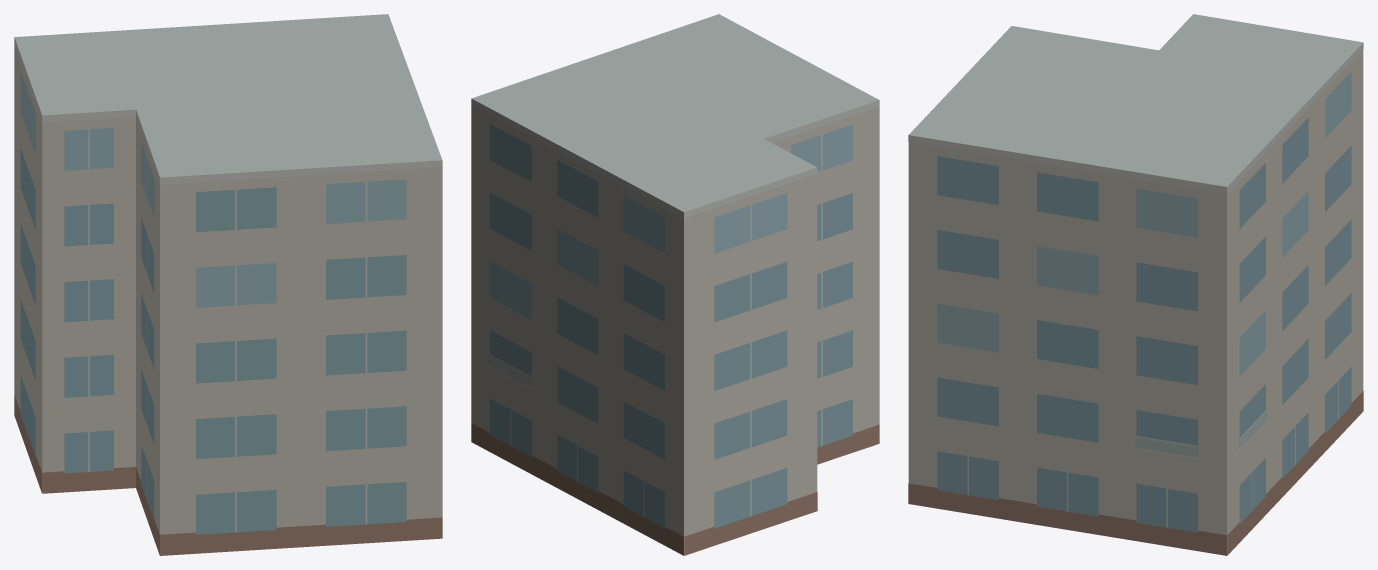
File: survey-upis-32868117.glb
3 renders of one model, left to right at view 1: azimuth 30°, elevation 25°; view 2: azimuth 150°, elevation 25°; view 3: azimuth 270°, elevation 25°, orthographic. The views are drawn at different scales.
Parts seen in each view (by area): view 1: survey-upis-32868117.tmp; view 2: survey-upis-32868117.tmp; view 3: survey-upis-32868117.tmp.
Part boxes in pixels (x1,y1,x2,y2): survey-upis-32868117.tmp: [14, 14, 442, 555]; survey-upis-32868117.tmp: [471, 14, 879, 555]; survey-upis-32868117.tmp: [908, 14, 1363, 555].
Size of the model in its own units: 13.24 by 13.15 by 14.71.
